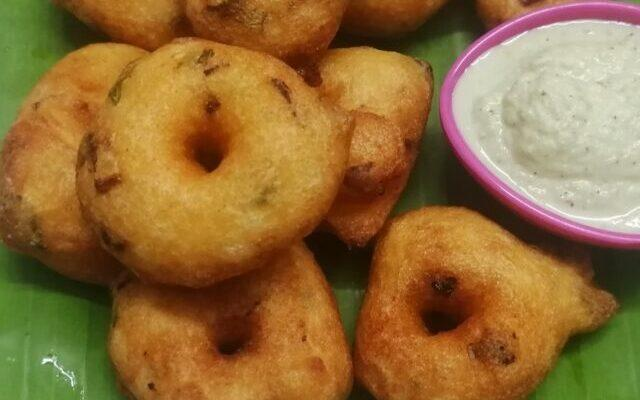mvada: (60, 0, 359, 299)
